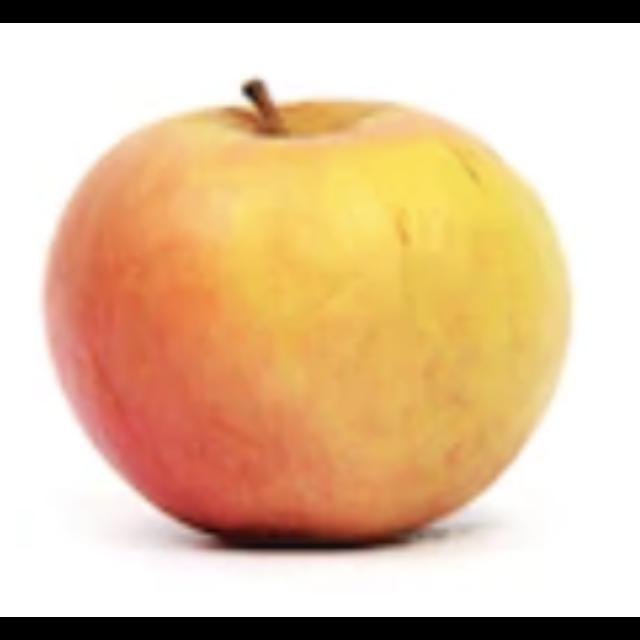Apel Segar: (41, 105, 573, 547)
